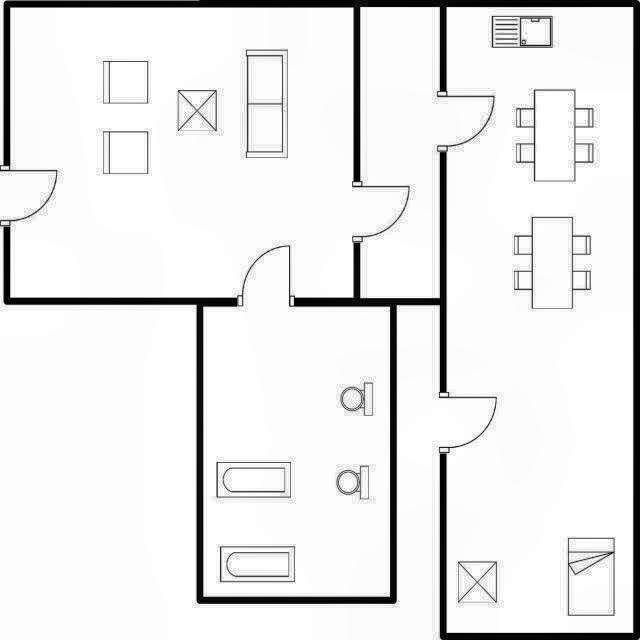room: (446, 7, 633, 633), (11, 8, 353, 297), (203, 306, 391, 597), (361, 6, 440, 298)
